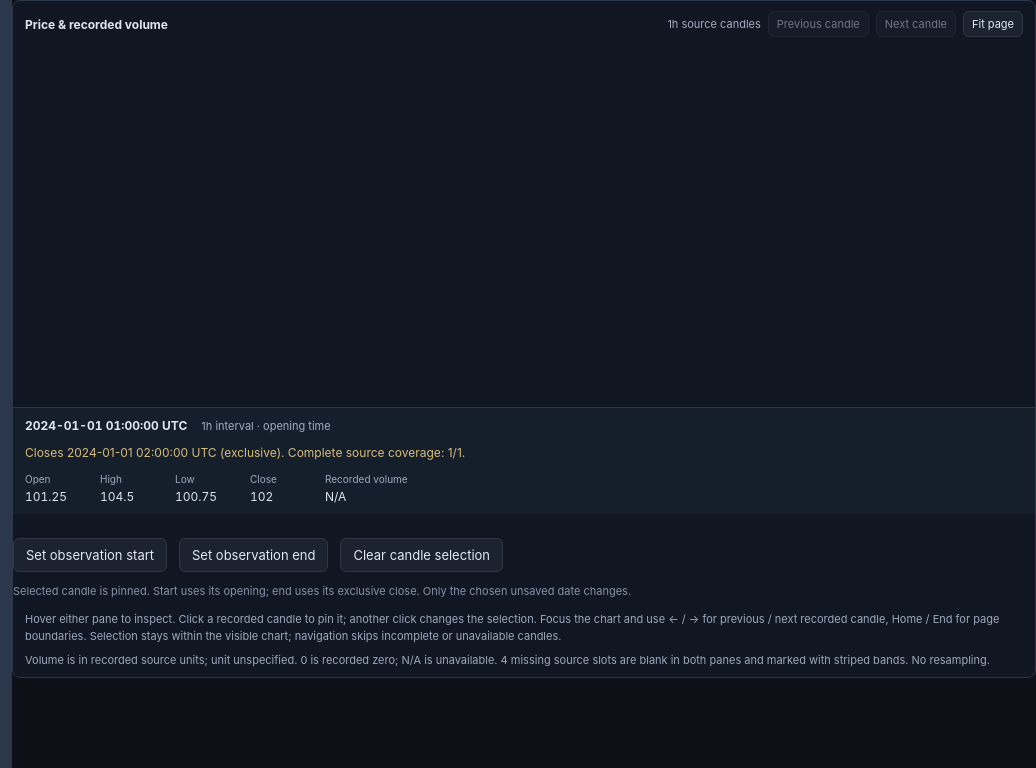
Test: explicit chart-to-observation boundaries › allows valid price with unavailable volume but never pins invalid price
Click the button "Set observation start" at (90, 555), box [13, 538, 167, 572]
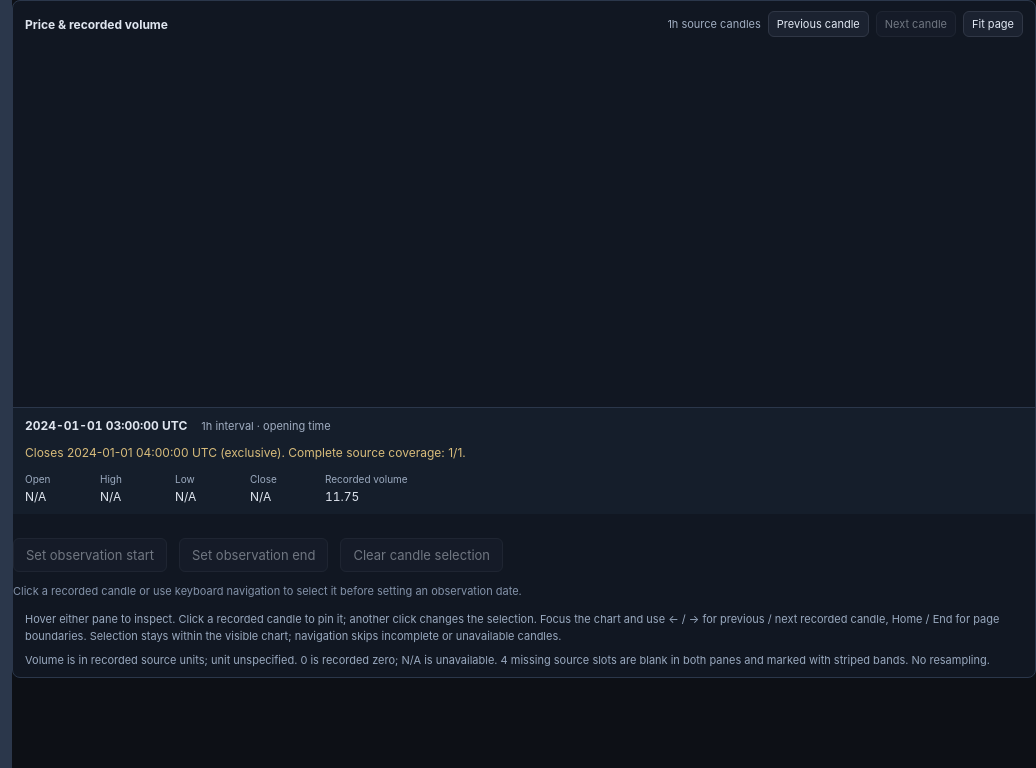
expect the button "Set observation start" is disabled: met, box [13, 538, 167, 572]
